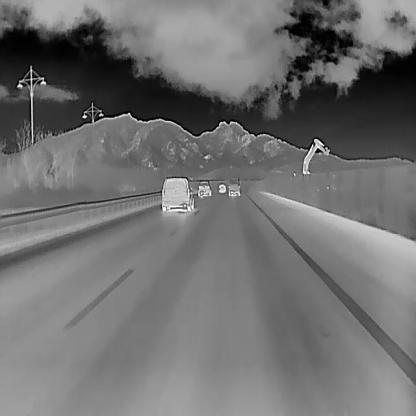car: (160, 177, 194, 211), (196, 179, 211, 197), (227, 177, 240, 196), (218, 183, 226, 193)
